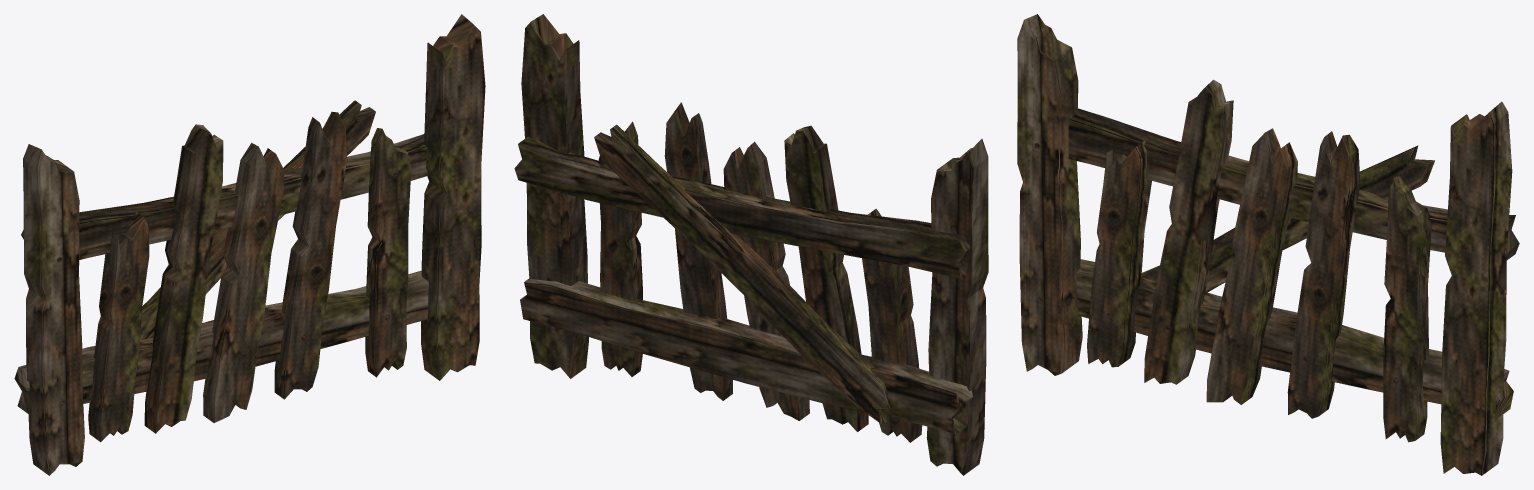
File: Cerca-Tabuas-Inclinadas.glb
3 renders of one model, left to right at view 1: azimuth 30°, elevation 25°; view 2: azimuth 150°, elevation 25°; view 3: azimuth 330°, elevation 25°, orthographic. The views are drawn at different scales.
Visible parts, largest first — view 1: Cerca quebrada; view 2: Cerca quebrada; view 3: Cerca quebrada.
Boxes of the visible parts, x1=… form: Cerca quebrada: x1=14, y1=14, x2=485, y2=475; Cerca quebrada: x1=514, y1=14, x2=988, y2=475; Cerca quebrada: x1=1017, y1=14, x2=1519, y2=475.
Bounding box in the file's own units: 2.25 × 1.66 × 0.2854.
2 materials, 2 textured.
